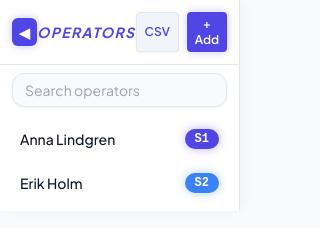
Scenario: OperatorPanel › matches substring anywhere in the name
Type "holm" into the field with placeholder "Search operators" at (120, 90), box [12,73,227,107]
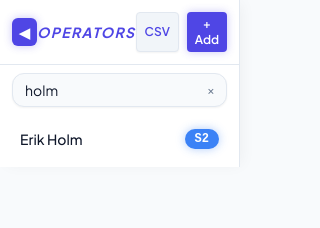
Expected: the text "Erik Holm" is shown, [20,130,82,148]
Expected: the text "Anna Lindgren" is gone
